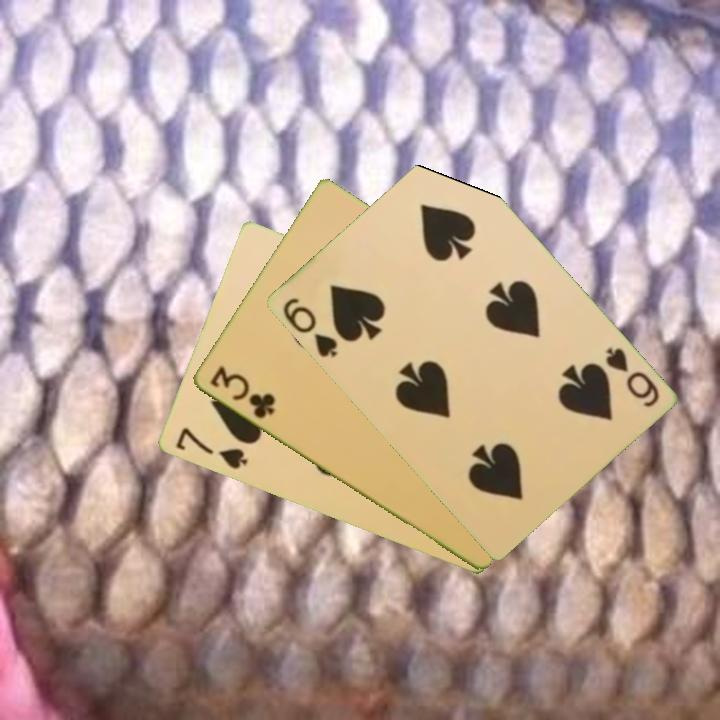3c: (206, 363, 278, 422)
6s: (278, 294, 340, 360), (601, 343, 662, 410)
7s: (171, 424, 250, 473)
